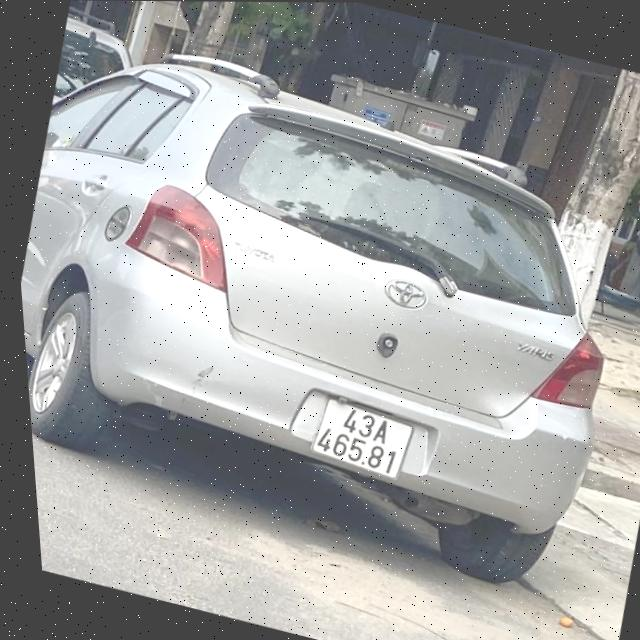car: (2, 33, 640, 595)
plate: (295, 386, 437, 490)
